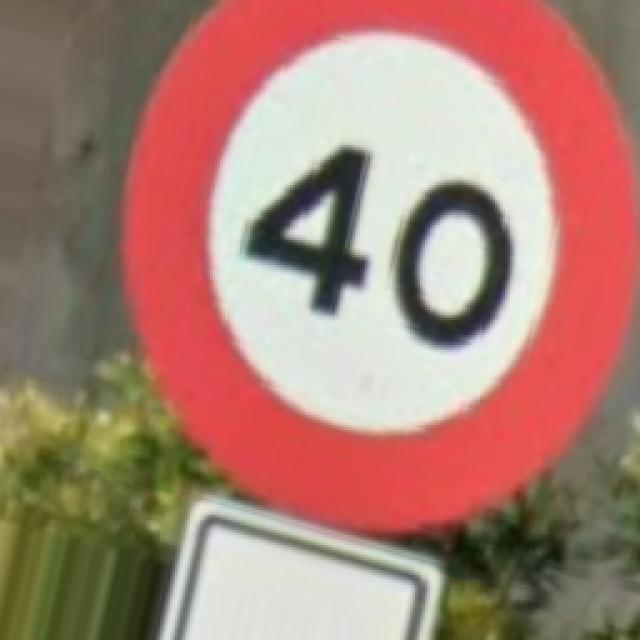Speed Limit -40-: (125, 0, 630, 530)
